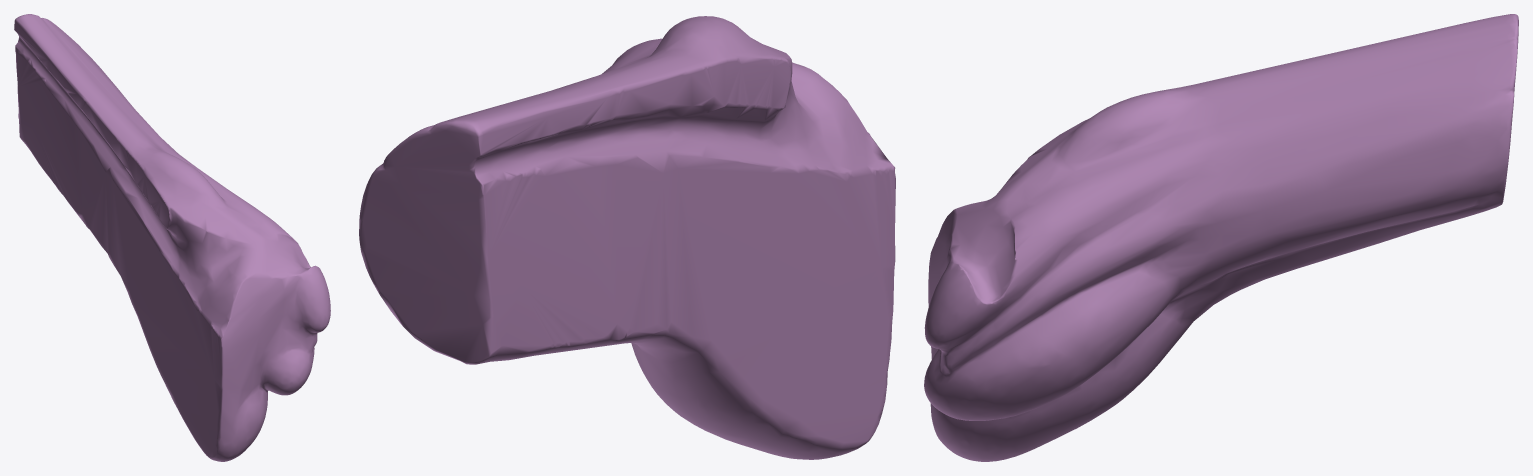
3 views of the same model, side by side, from view 1: azimuth 30°, elevation 25°; view 2: azimuth 150°, elevation 25°; view 3: azimuth 270°, elevation 25° (orthographic). The views are drawn at different scales.
Parts seen in each view (by area): view 1: 左侧延髓; view 2: 左侧延髓; view 3: 左侧延髓.
Part boxes in pixels (<box>): 左侧延髓: <box>14,14,330,461</box>; 左侧延髓: <box>359,16,895,459</box>; 左侧延髓: <box>924,14,1518,461</box>.
Size of the model in its own units: 0.0191 by 0.0475 by 0.059.
